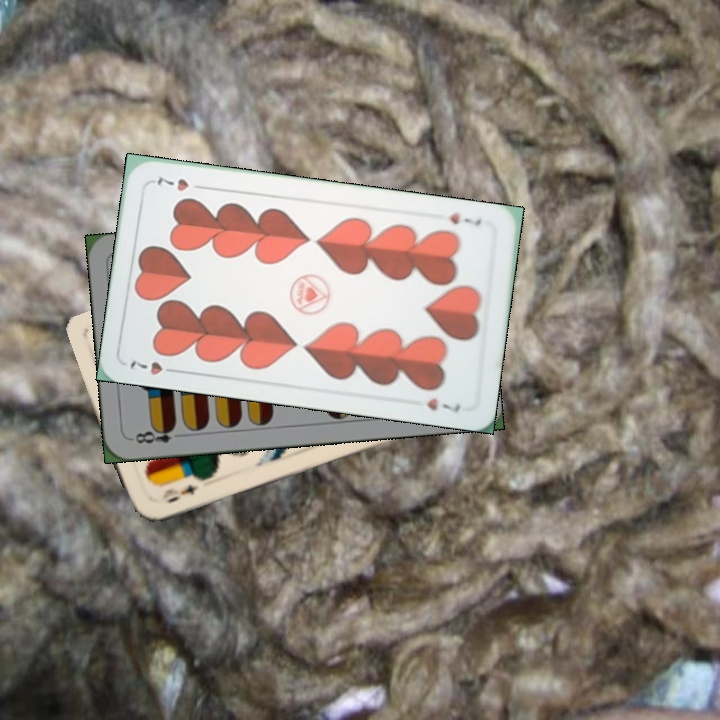E8: (128, 421, 187, 446)
EO: (158, 480, 201, 506)
H7: (126, 356, 182, 378), (445, 209, 484, 229)
